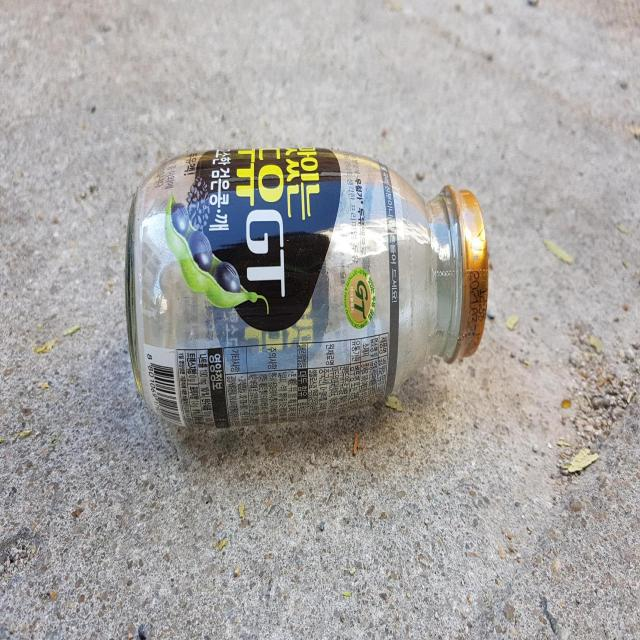glass: (125, 144, 489, 429)
